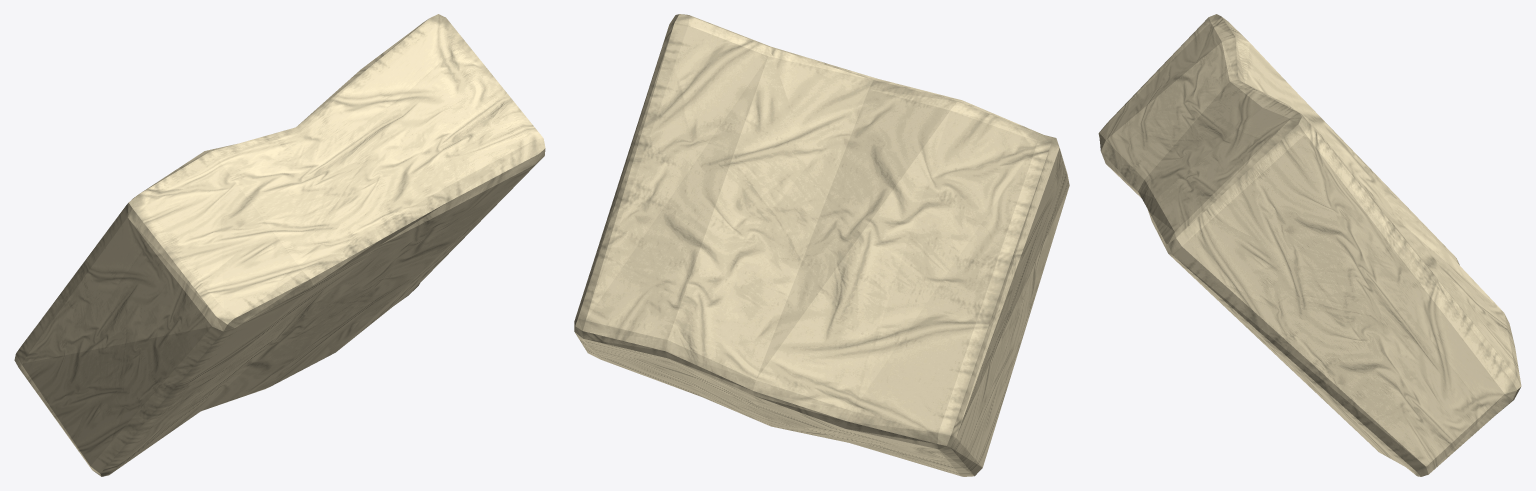
Rendered from ISS_INT_props_Square_Bag_1.FBX.
The picture shows the model from 3 angles, left to right: view 1: azimuth 30°, elevation 25°; view 2: azimuth 150°, elevation 25°; view 3: azimuth 270°, elevation 25°; orthographic projection. The views are drawn at different scales.
Visible parts, largest first — view 1: Object006; view 2: Object006; view 3: Object006.
Boxes of the visible parts, box(x1,y1,x2,y2) form: Object006: box(14, 14, 545, 476); Object006: box(574, 14, 1069, 476); Object006: box(1098, 14, 1521, 476).
Bounding box in the file's own units: 0.0439 × 0.0414 × 0.0378.
